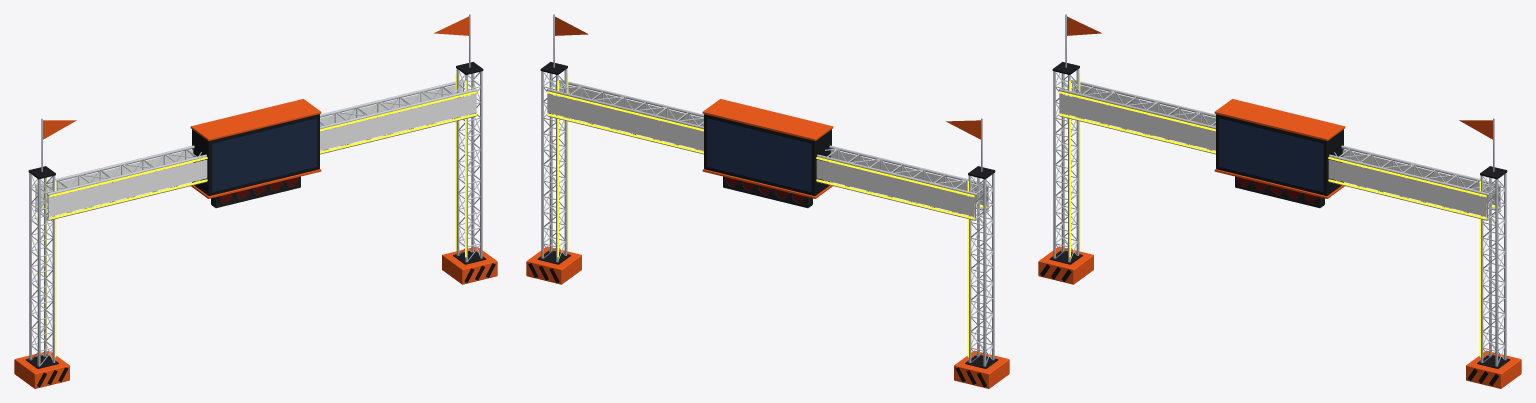
Rendered from start-kapi.glb.
3 views of the same model, side by side, from view 1: azimuth 30°, elevation 25°; view 2: azimuth 150°, elevation 25°; view 3: azimuth 330°, elevation 25° (orthographic).
Parts seen in each view (by area): view 1: kiris__dama, ekran__ekran, kiris__alu, sol__alu, sag__alu, ekran__turuncu, kiris__led, ekran__koyu, sag__turuncu, sol__turuncu, lamba__lamba-kasa, sag__led (+2 smaller); view 2: kiris__dama, ekran__ekran, kiris__alu, sol__alu, sag__alu, ekran__turuncu, kiris__led, ekran__koyu, sag__turuncu, sol__turuncu, lamba__lamba-kasa, sag__led (+3 smaller); view 3: kiris__dama, ekran__ekran, kiris__alu, sag__alu, sol__alu, ekran__turuncu, kiris__led, ekran__koyu, sol__turuncu, sag__turuncu, lamba__lamba-kasa, sol__led (+3 smaller).
Boxes of the visible parts, left/top/right/bottom form: kiris__dama: left=35, top=84, right=476, bottom=216; ekran__ekran: left=212, top=118, right=316, bottom=192; kiris__alu: left=34, top=79, right=477, bottom=220; sol__alu: left=29, top=118, right=55, bottom=366; sag__alu: left=456, top=14, right=482, bottom=262; ekran__turuncu: left=190, top=99, right=321, bottom=198; kiris__led: left=35, top=91, right=476, bottom=219; ekran__koyu: left=192, top=114, right=319, bottom=196; sag__turuncu: left=442, top=246, right=497, bottom=284; sol__turuncu: left=14, top=350, right=69, bottom=388; lamba__lamba-kasa: left=211, top=176, right=300, bottom=208; sag__led: left=455, top=73, right=466, bottom=257; kiris__dama: left=547, top=84, right=987, bottom=216; ekran__ekran: left=707, top=118, right=811, bottom=192; kiris__alu: left=546, top=79, right=989, bottom=220; sol__alu: left=968, top=118, right=994, bottom=366; sag__alu: left=541, top=14, right=567, bottom=262; ekran__turuncu: left=702, top=99, right=833, bottom=198; kiris__led: left=547, top=91, right=988, bottom=219; ekran__koyu: left=704, top=114, right=831, bottom=196; sag__turuncu: left=526, top=246, right=581, bottom=284; sol__turuncu: left=954, top=350, right=1009, bottom=388; lamba__lamba-kasa: left=723, top=176, right=812, bottom=208; sag__led: left=557, top=73, right=568, bottom=257; kiris__dama: left=1059, top=84, right=1500, bottom=216; ekran__ekran: left=1219, top=118, right=1323, bottom=192; kiris__alu: left=1058, top=79, right=1501, bottom=220; sag__alu: left=1480, top=118, right=1506, bottom=366; sol__alu: left=1053, top=14, right=1079, bottom=262; ekran__turuncu: left=1214, top=99, right=1345, bottom=198; kiris__led: left=1059, top=91, right=1500, bottom=219; ekran__koyu: left=1216, top=114, right=1343, bottom=196; sol__turuncu: left=1038, top=246, right=1093, bottom=284; sag__turuncu: left=1466, top=350, right=1521, bottom=388; lamba__lamba-kasa: left=1235, top=176, right=1324, bottom=208; sol__led: left=1069, top=73, right=1080, bottom=257.
Bounding box in the file's own units: 19.5 × 10.43 × 1.52.
